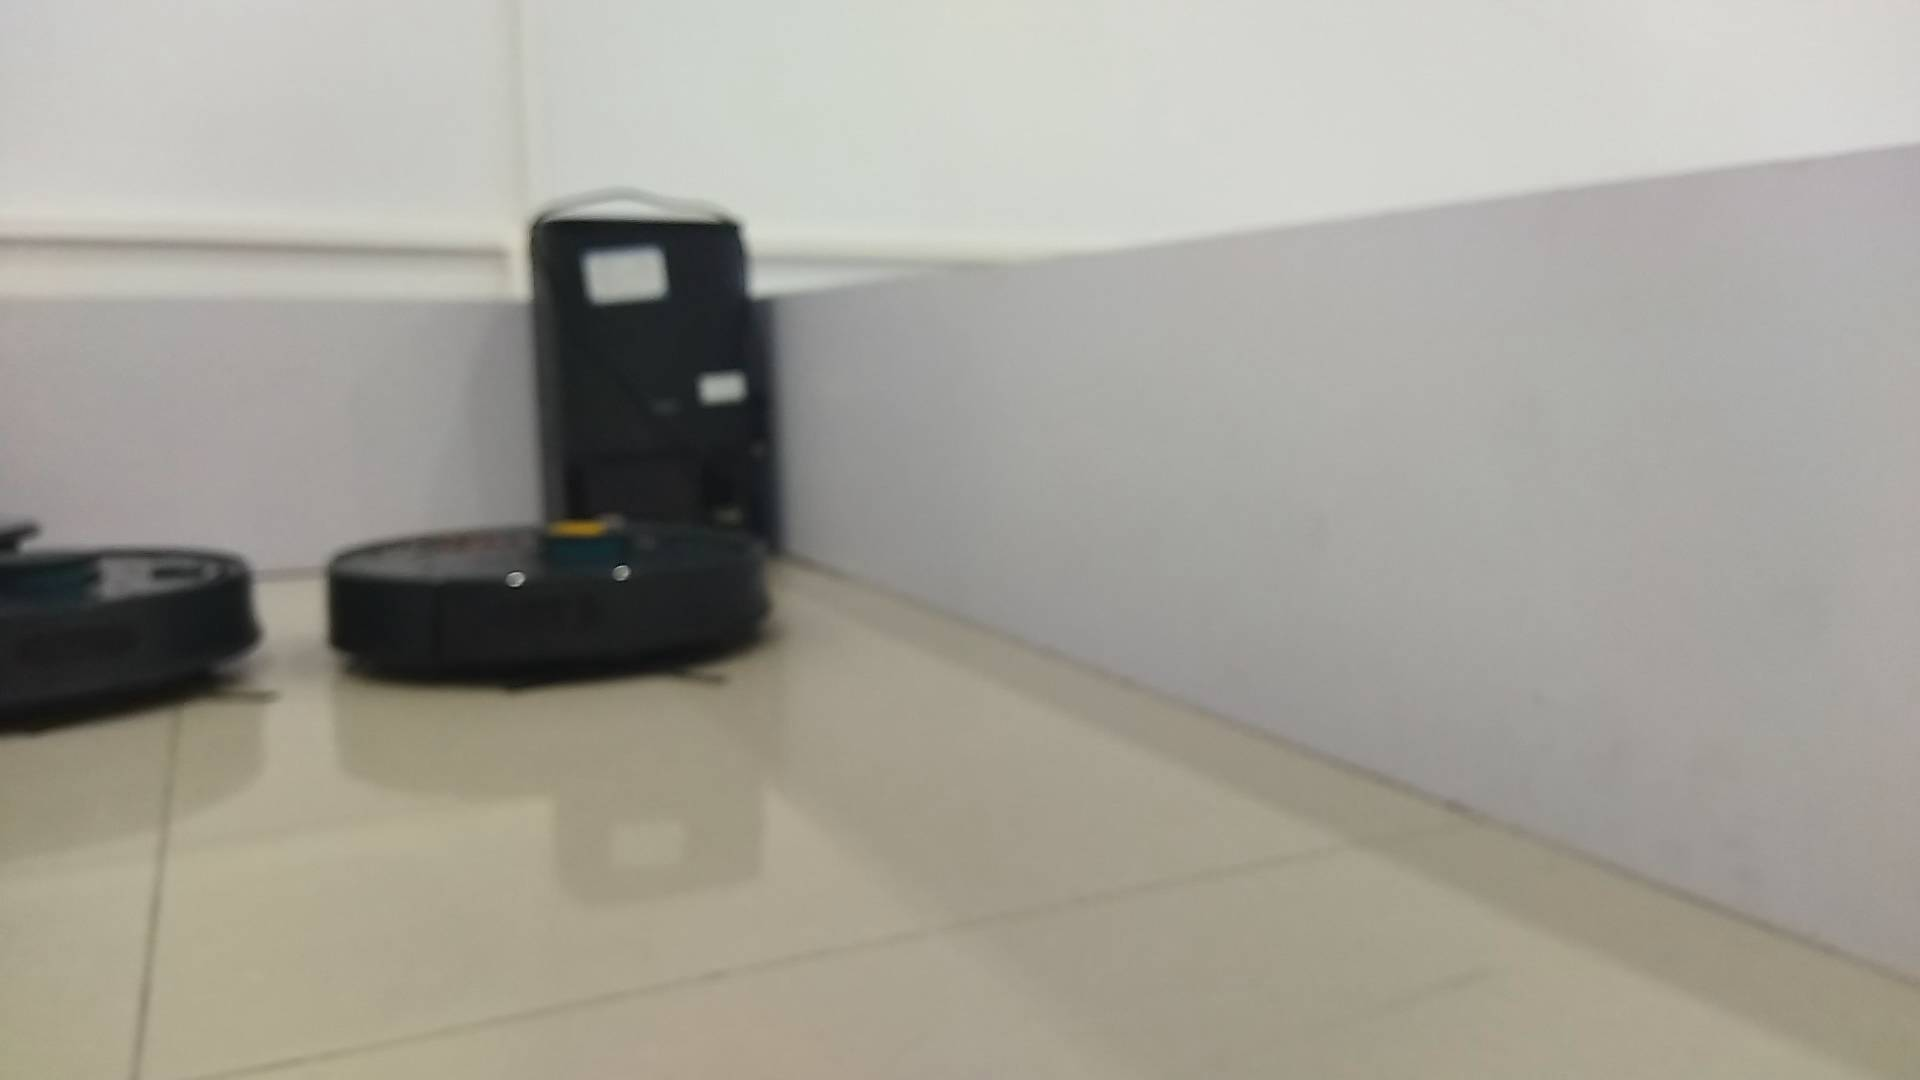dust collecting barrel: (527, 219, 766, 555)
